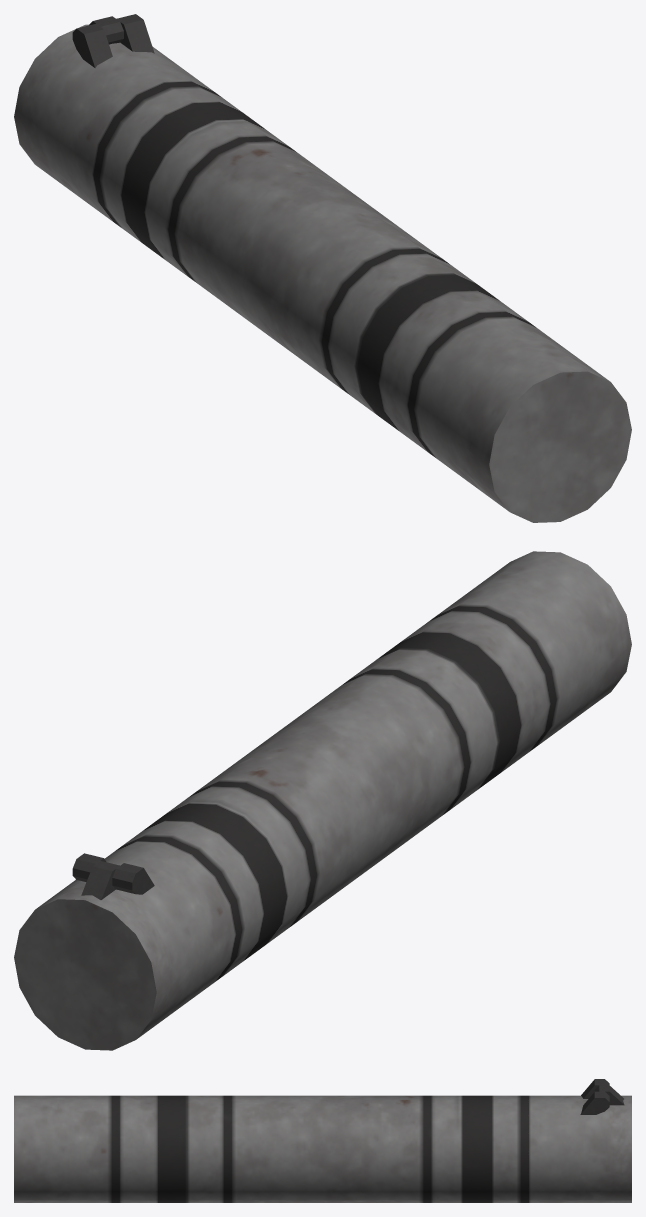
The model's file is launcher_s_2.fbx.
3 renders of one model, top to bottom at view 1: azimuth 30°, elevation 25°; view 2: azimuth 150°, elevation 25°; view 3: azimuth 270°, elevation 25°, orthographic. The views are drawn at different scales.
Visible parts, largest first — view 1: launcher_s_2, launcher_s_2C; view 2: launcher_s_2, launcher_s_2C; view 3: launcher_s_2, launcher_s_2C.
Part boxes in pixels (x1=…): launcher_s_2: x1=31, y1=14, x2=631, y2=522; launcher_s_2C: x1=14, y1=16, x2=123, y2=176; launcher_s_2: x1=53, y1=551, x2=631, y2=1026; launcher_s_2C: x1=14, y1=861, x2=173, y2=1050; launcher_s_2: x1=14, y1=1079, x2=609, y2=1202; launcher_s_2C: x1=594, y1=1085, x2=631, y2=1202.
Size of the model in its own units: 1.44 by 1.62 by 8.3.
